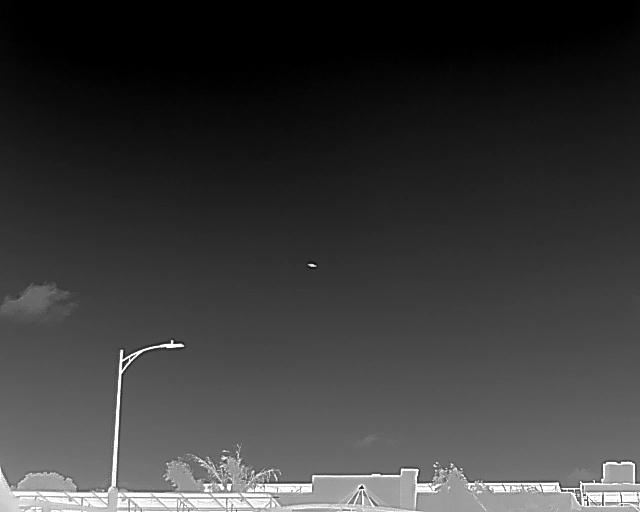fpv-drone: (307, 261, 317, 268)
